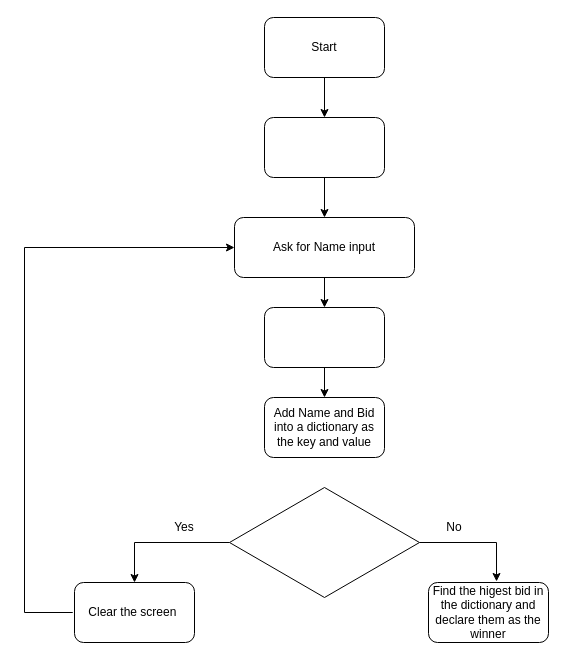
The diagram is 566 pixels wide and 660 high, and some of its shapes have lost their labels. Each missing label, with the centre of its shape:
"Ask for Bid price" goes at pixel 324 337.
"Ask if there are other user who want to bid" goes at pixel 324 542.
"Show logo from art.py" goes at pixel 324 147.
